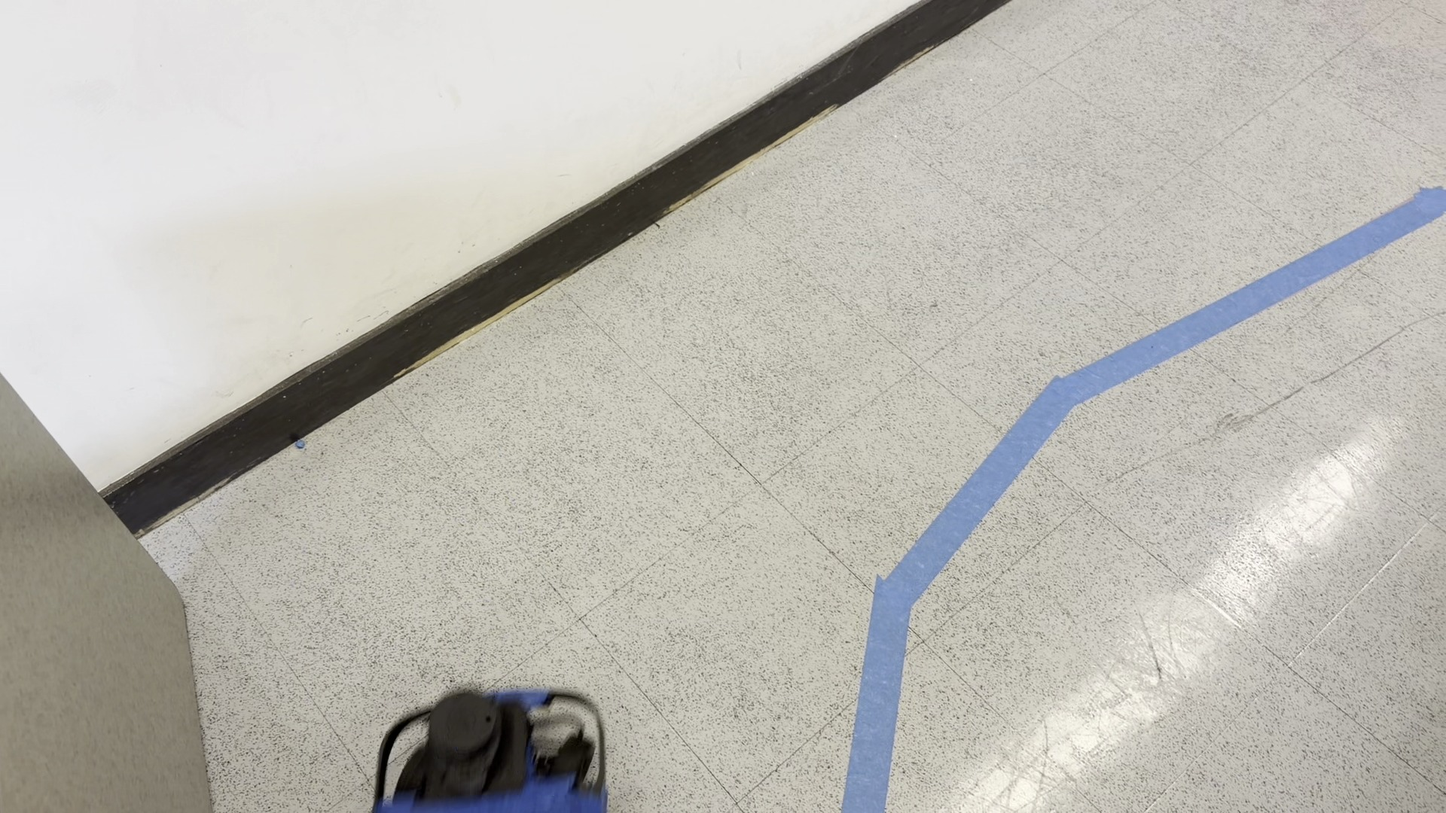racecar: (366, 690, 613, 813)
